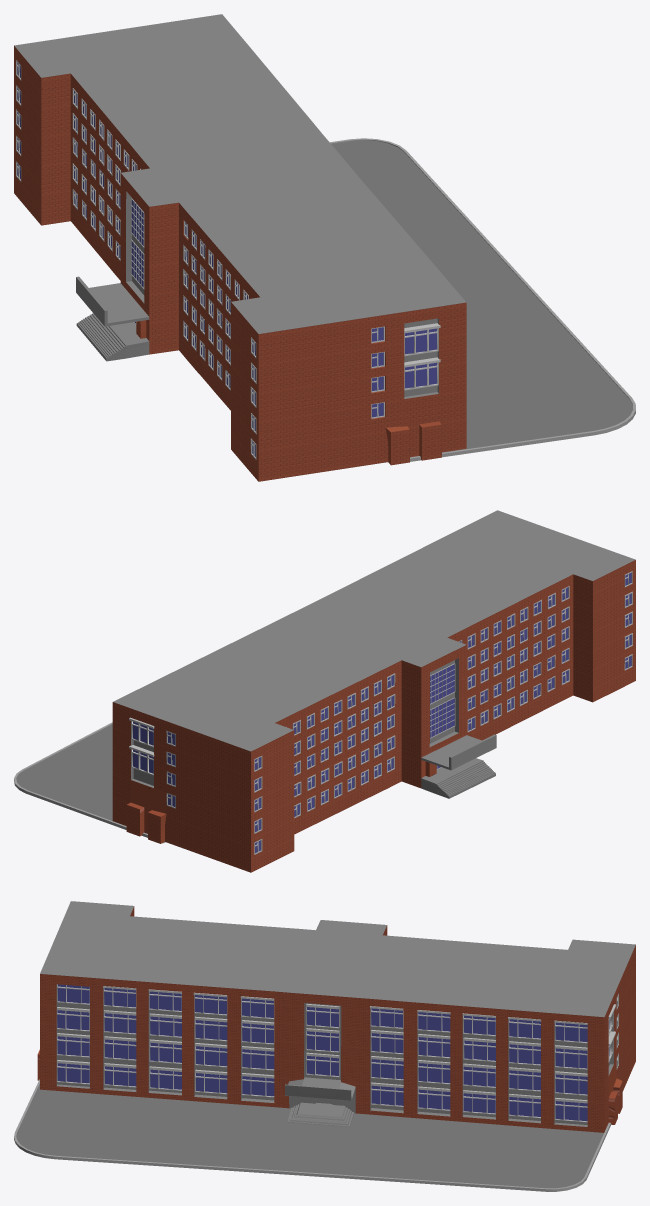
Rendered from Instrumentalniy_corp_New.fbx.
The picture shows the model from 3 angles, top to bottom: view 1: azimuth 30°, elevation 25°; view 2: azimuth 150°, elevation 25°; view 3: azimuth 270°, elevation 25°; orthographic projection. The views are drawn at different scales.
Visible parts, largest first — view 1: Injenerniny_corp, prohFloor_2, Window_narrow36_Win_nar_frame_1, Window_narrow81_Win_nar_frame_1, prohBorder2, Window_narrow131_Win_nar_glass_1, Window_narrow131_Win_nar_frame_1, Window_narrow81_Win_nar_glass_2, Window_narrow45_Win_nar_glass_2, Win_gird7_GirdGlass1, Win_gird7; view 2: Injenerniny_corp, prohFloor_2, Window_narrow81_Win_nar_frame_1, Window_narrow36_Win_nar_frame_1, Window_narrow81_Win_nar_glass_2, Window_narrow45_Win_nar_glass_2, Win_gird7_GirdGlass1, Window_wide_55_Win_wide_frame_1, Window_wide_55_Win_wide_glass_1, prohBorder2, Win_gird7; view 3: Injenerniny_corp, prohFloor_2, Window_wide_57_Win_wide_glass_1, Window_wide_57_Win_wide_frame_1, prohBorder2, Window_wide_55_Win_wide_frame_1.
Part boxes in pixels (x1=…): Injenerniny_corp: x1=14, y1=14, x2=466, y2=481; prohFloor_2: x1=331, y1=140, x2=632, y2=457; Window_narrow36_Win_nar_frame_1: x1=72, y1=88, x2=140, y2=260; Window_narrow81_Win_nar_frame_1: x1=183, y1=220, x2=248, y2=390; prohBorder2: x1=330, y1=138, x2=635, y2=461; Window_narrow131_Win_nar_glass_1: x1=372, y1=327, x2=436, y2=417; Window_narrow131_Win_nar_frame_1: x1=371, y1=323, x2=440, y2=418; Window_narrow81_Win_nar_glass_2: x1=184, y1=222, x2=255, y2=456; Window_narrow45_Win_nar_glass_2: x1=17, y1=62, x2=136, y2=258; Win_gird7_GirdGlass1: x1=131, y1=200, x2=143, y2=287; Win_gird7: x1=131, y1=198, x2=144, y2=289; Injenerniny_corp: x1=112, y1=510, x2=635, y2=872; prohFloor_2: x1=16, y1=724, x2=165, y2=842; Window_narrow81_Win_nar_frame_1: x1=458, y1=586, x2=569, y2=732; Window_narrow36_Win_nar_frame_1: x1=292, y1=673, x2=395, y2=818; Window_narrow81_Win_nar_glass_2: x1=459, y1=572, x2=631, y2=730; Window_narrow45_Win_nar_glass_2: x1=255, y1=675, x2=393, y2=853; Win_gird7_GirdGlass1: x1=430, y1=664, x2=454, y2=737; Window_wide_55_Win_wide_frame_1: x1=129, y1=717, x2=175, y2=808; Window_wide_55_Win_wide_glass_1: x1=133, y1=722, x2=175, y2=806; prohBorder2: x1=14, y1=722, x2=164, y2=843; Win_gird7: x1=430, y1=663, x2=455, y2=738; Injenerniny_corp: x1=37, y1=901, x2=635, y2=1132; prohFloor_2: x1=16, y1=1084, x2=603, y2=1188; Window_wide_57_Win_wide_glass_1: x1=57, y1=984, x2=587, y2=1121; Window_wide_57_Win_wide_frame_1: x1=57, y1=984, x2=587, y2=1122; prohBorder2: x1=14, y1=1079, x2=610, y2=1191; Window_wide_55_Win_wide_frame_1: x1=608, y1=993, x2=618, y2=1069.
Size of the model in its own units: 2.53 by 0.8029 by 3.85.
